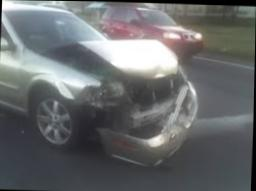Bonnet: (28, 38, 179, 83)
Bumper: (77, 78, 200, 167)
Fender: (13, 48, 99, 120)
